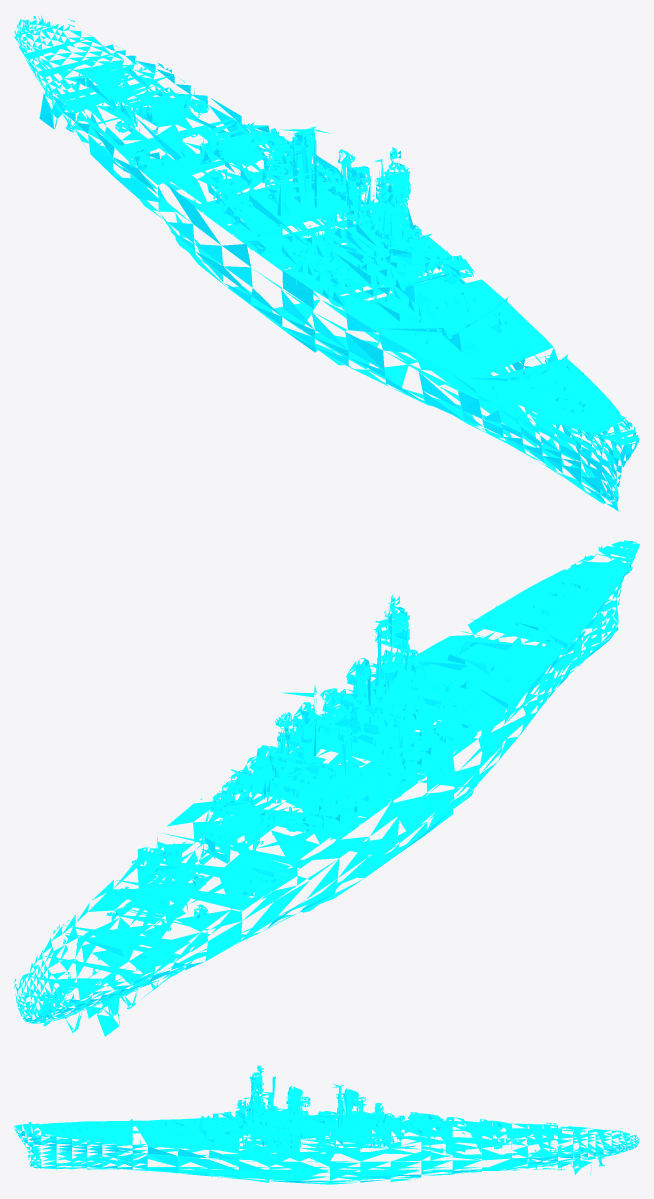
Rendered from Amerigo_Vespucci.glb.
3 views of the same model, one above another, from view 1: azimuth 30°, elevation 25°; view 2: azimuth 150°, elevation 25°; view 3: azimuth 270°, elevation 25° (orthographic). The views are drawn at different scales.
Size of the model in its own units: 2.71 by 3.41 by 18.79.
